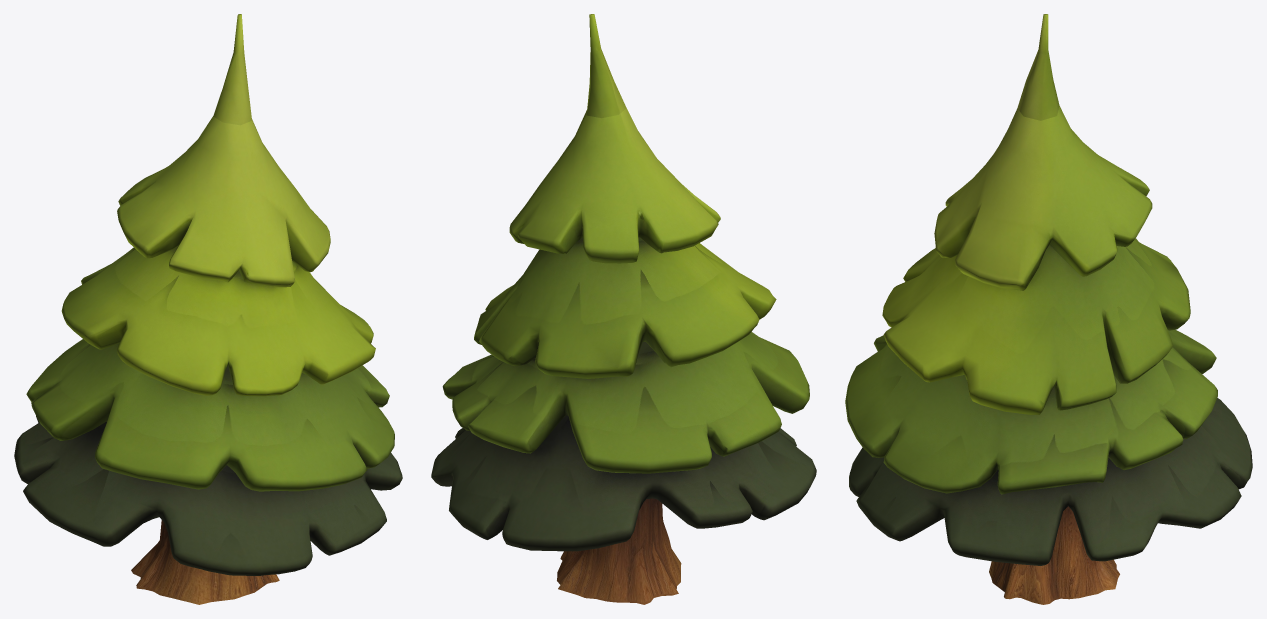
Rendered from stylized-pine.glb.
3 views of the same model, side by side, from view 1: azimuth 30°, elevation 25°; view 2: azimuth 150°, elevation 25°; view 3: azimuth 270°, elevation 25° (orthographic). The views are drawn at different scales.
Parts seen in each view (by area): view 1: tripo_part_3, tripo_part_0, tripo_part_5, tripo_part_1, tripo_part_4, tripo_part_2; view 2: tripo_part_3, tripo_part_5, tripo_part_0, tripo_part_1, tripo_part_4, tripo_part_2; view 3: tripo_part_0, tripo_part_3, tripo_part_5, tripo_part_1, tripo_part_4, tripo_part_2.
Boxes of the visible parts, bbox=[...] form: tripo_part_3: bbox=[26, 339, 394, 491]; tripo_part_0: bbox=[61, 247, 375, 402]; tripo_part_5: bbox=[14, 416, 402, 575]; tripo_part_1: bbox=[117, 116, 330, 287]; tripo_part_4: bbox=[131, 520, 279, 604]; tripo_part_2: bbox=[213, 14, 251, 125]; tripo_part_3: bbox=[442, 331, 809, 473]; tripo_part_5: bbox=[431, 415, 816, 551]; tripo_part_0: bbox=[474, 237, 776, 378]; tripo_part_1: bbox=[509, 108, 720, 263]; tripo_part_4: bbox=[557, 498, 681, 604]; tripo_part_2: bbox=[586, 14, 626, 118]; tripo_part_0: bbox=[882, 238, 1190, 414]; tripo_part_3: bbox=[845, 329, 1217, 494]; tripo_part_5: bbox=[849, 398, 1252, 565]; tripo_part_1: bbox=[934, 106, 1152, 290]; tripo_part_4: bbox=[989, 506, 1119, 604]; tripo_part_2: bbox=[1017, 14, 1059, 120].
Size of the model in its own units: 0.6399 by 1 by 0.6439.
6 materials, 6 textured.
